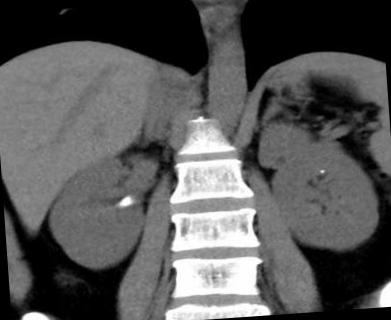Tas_Var: (117, 193, 132, 210), (318, 168, 325, 175)
